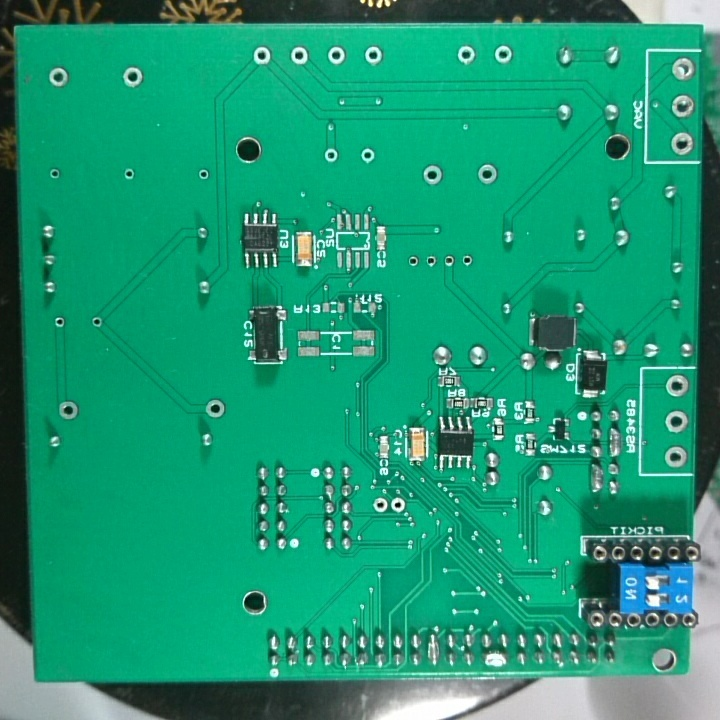F: (668, 56, 697, 84), (119, 63, 147, 91), (420, 161, 448, 189), (669, 94, 697, 121), (664, 372, 691, 399), (668, 130, 694, 158), (663, 443, 690, 469), (474, 161, 501, 187), (663, 408, 691, 433), (248, 44, 276, 69), (286, 43, 313, 68), (202, 397, 227, 422), (46, 64, 71, 89), (55, 398, 81, 422), (454, 43, 478, 68), (490, 42, 516, 65), (361, 43, 385, 67), (319, 145, 343, 168), (325, 44, 348, 67), (357, 145, 378, 168), (369, 495, 390, 516), (457, 250, 476, 272), (49, 312, 68, 333), (45, 163, 64, 184), (120, 165, 139, 185), (88, 313, 106, 333), (389, 495, 405, 517), (424, 250, 439, 273), (442, 251, 457, 272), (195, 166, 213, 183), (405, 251, 419, 272)
P: (480, 648, 511, 668), (423, 631, 440, 666), (605, 426, 623, 459), (587, 461, 605, 492)
